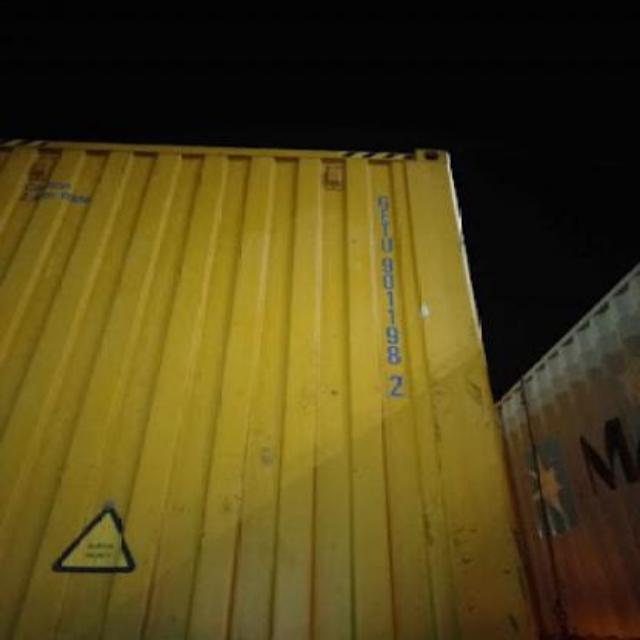0: (380, 272, 396, 288)
1: (384, 306, 400, 324), (382, 292, 398, 304)
2: (386, 373, 410, 397)
8: (382, 344, 404, 366)
9: (384, 326, 402, 344), (380, 258, 396, 272)
E: (376, 208, 389, 220)
G: (376, 192, 389, 208)
T: (376, 220, 394, 236)
U: (376, 238, 396, 252)
